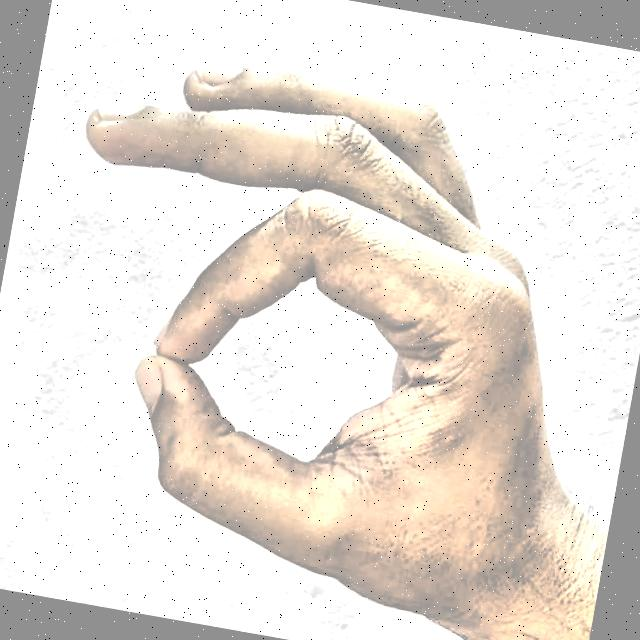Yo: (0, 0, 618, 640)
